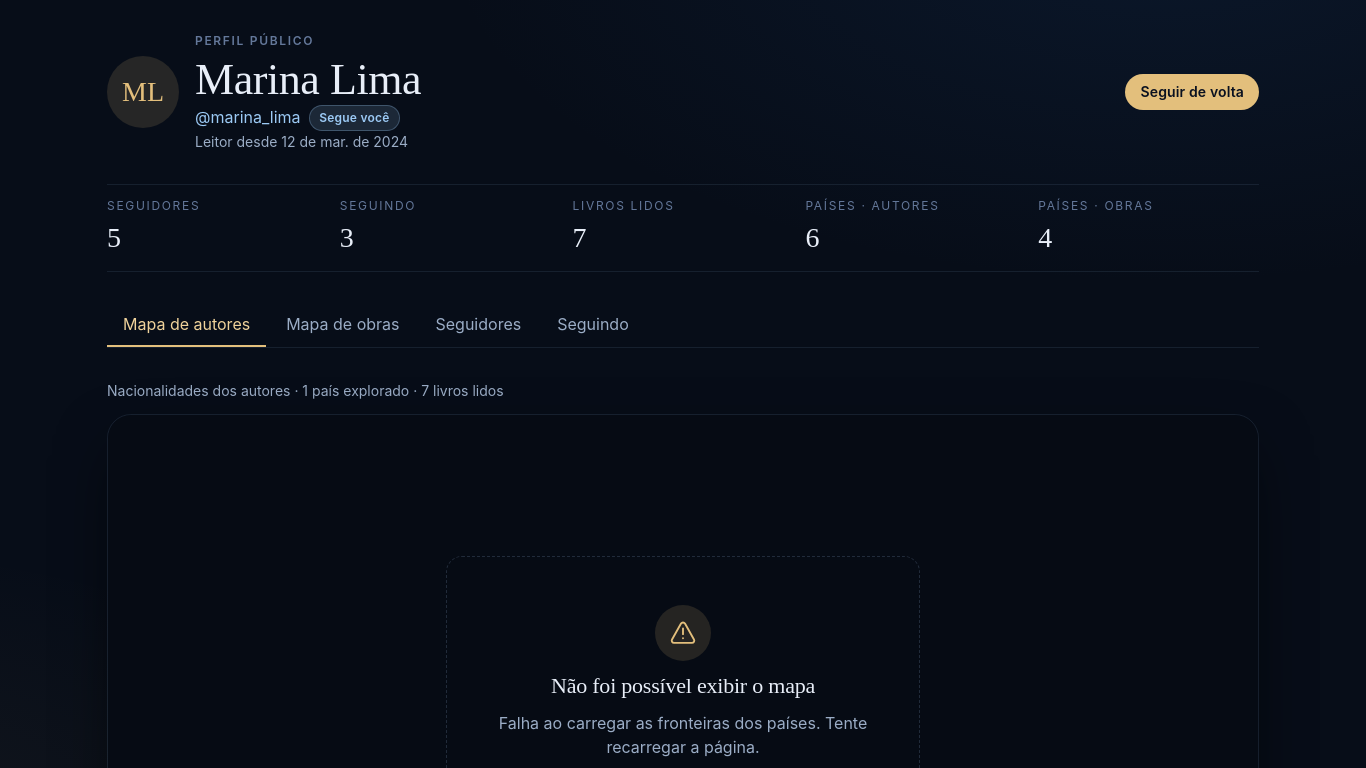
Test: UserProfilePage › seguidores e seguindo › só carregam ao abrir a aba; mostram cartões com botão de seguir
The width and height of the screenshot is (1366, 768).
Click the tab "Seguidores": (478, 326) [420, 304, 537, 347]
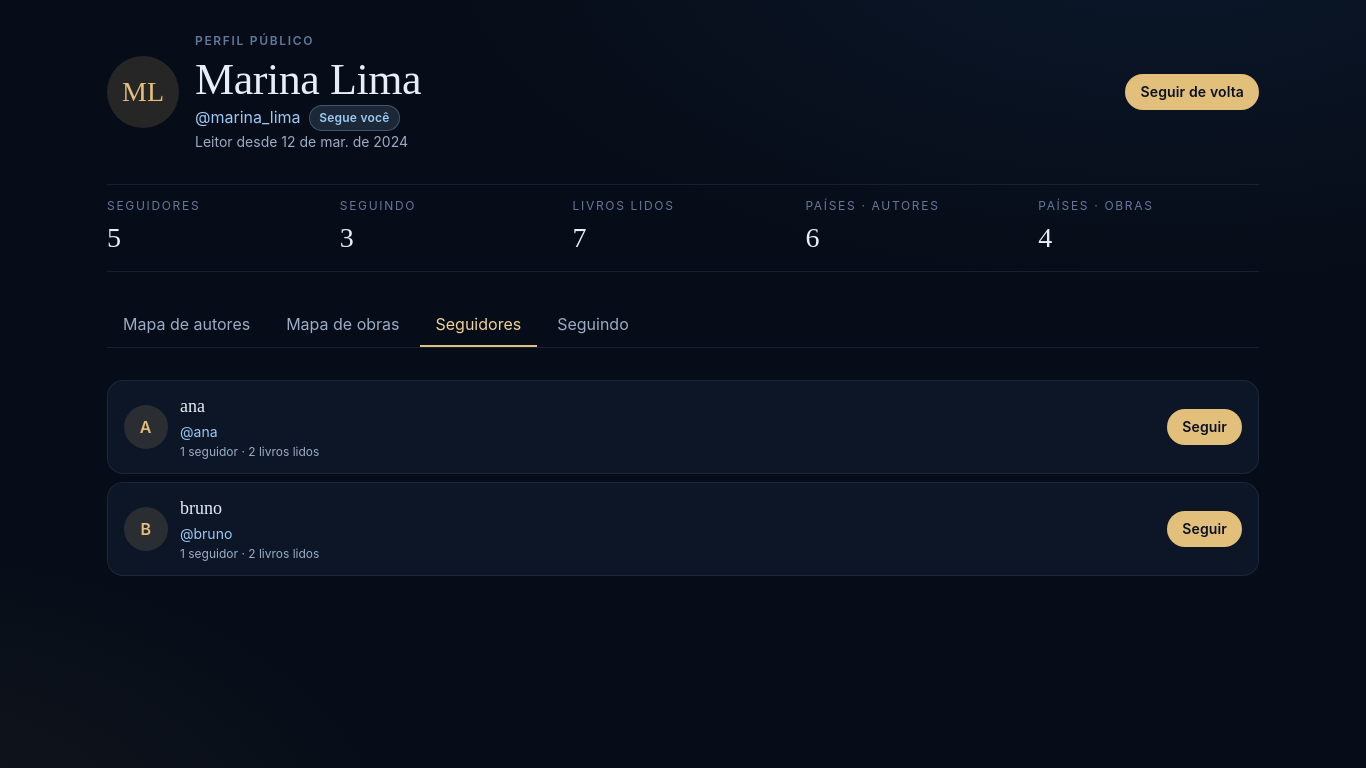
Expected: the button with test id "follow-button" in the row of "@ana" reads "Seguir", [1167, 409, 1242, 445]
Click the tab "Seguindo": (593, 326) [541, 304, 645, 347]
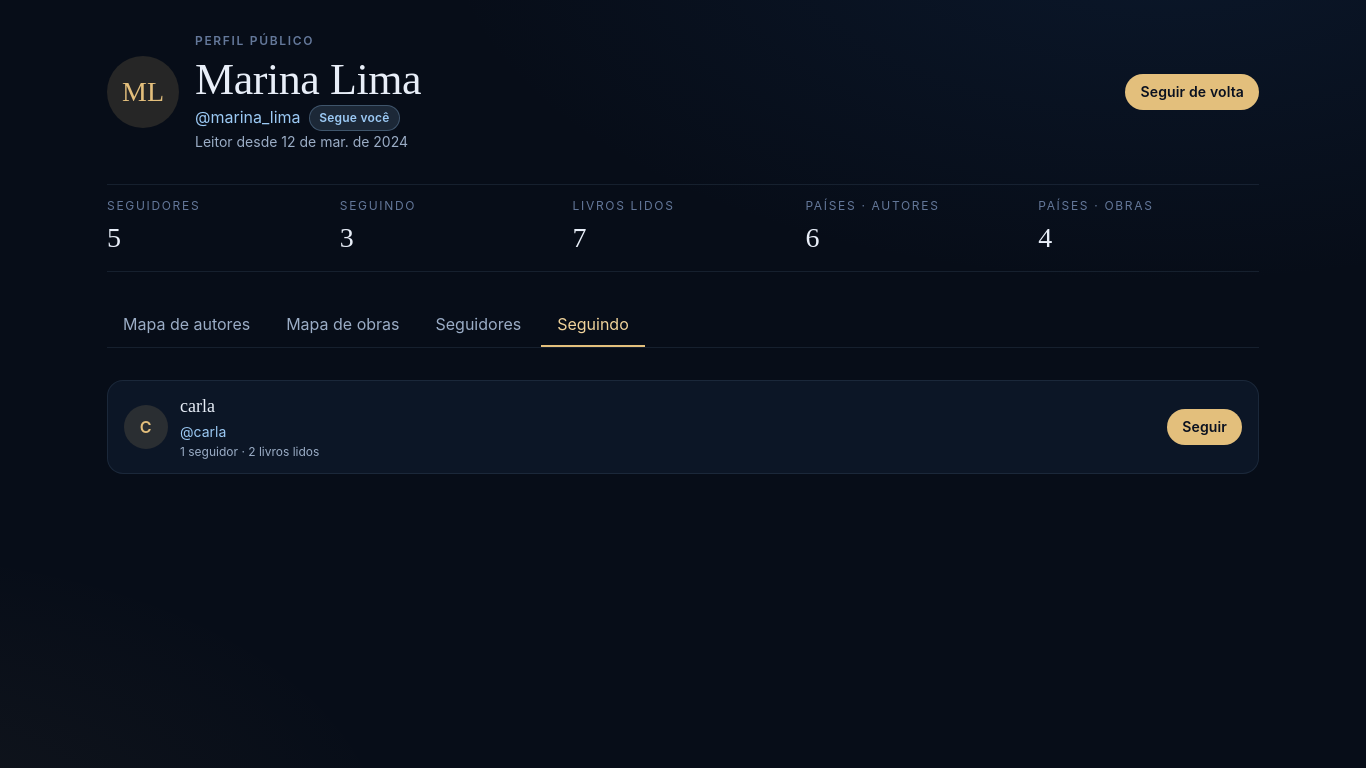
Expected: the number of elements with test id "person-card" is 1, [107, 380, 1259, 474]
